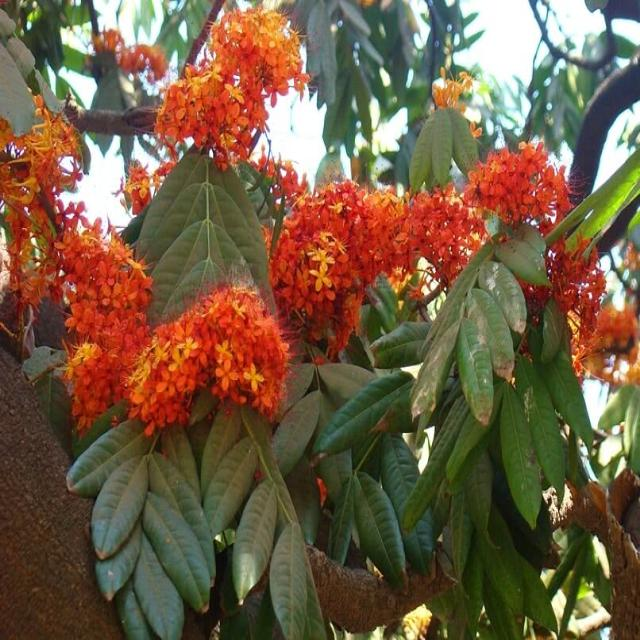Ashoka: (192, 117, 630, 608), (100, 332, 374, 630), (452, 117, 640, 461), (142, 260, 331, 602), (11, 156, 193, 510), (275, 142, 478, 373), (159, 6, 343, 249)
